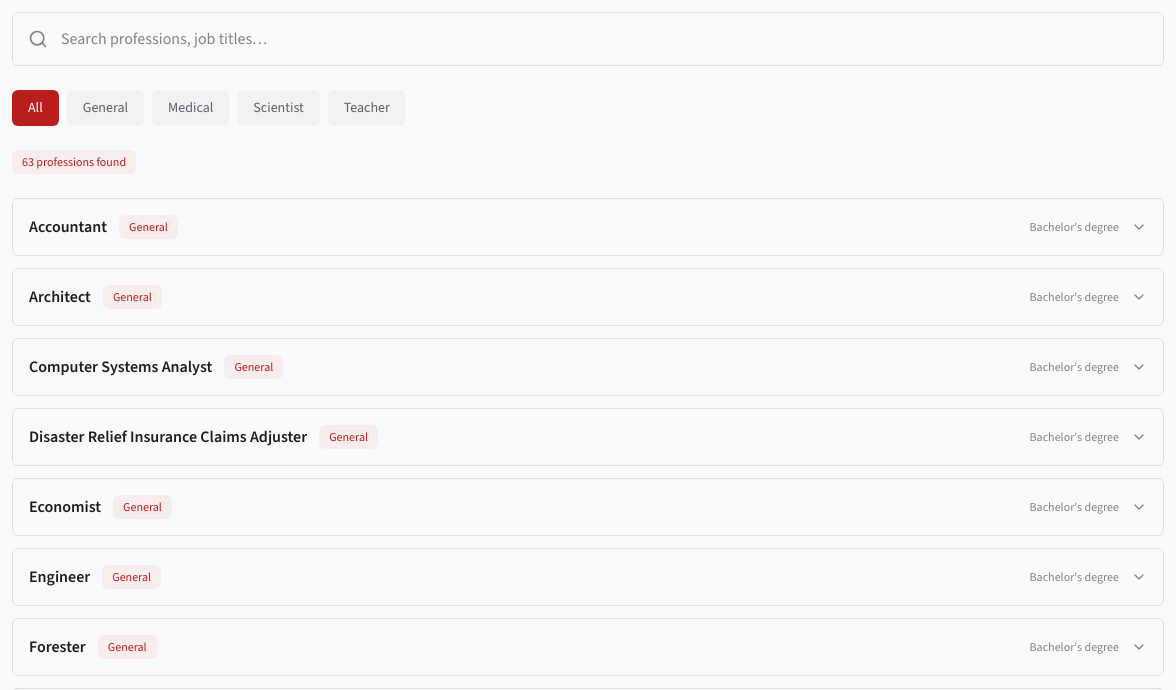
Test: ProfessionFinder › filters by category
Click the button "Medical": coordinates (191, 108) [152, 90, 229, 126]
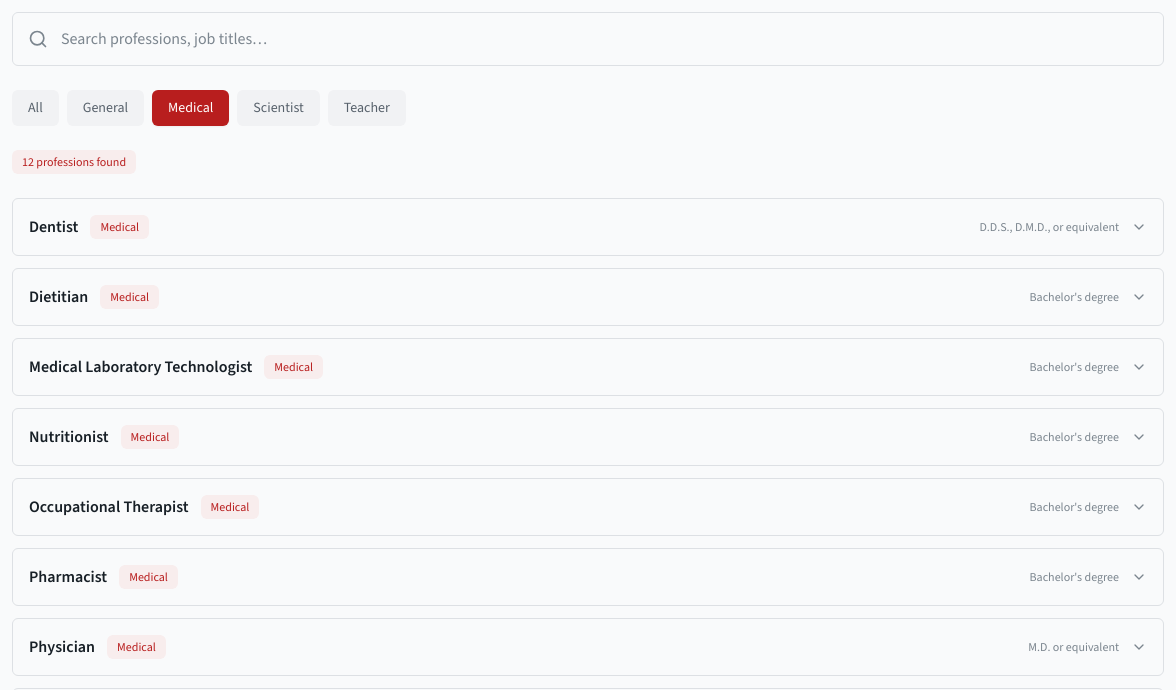
Check: the text "12 professions found" is shown, box [12, 150, 136, 174]
